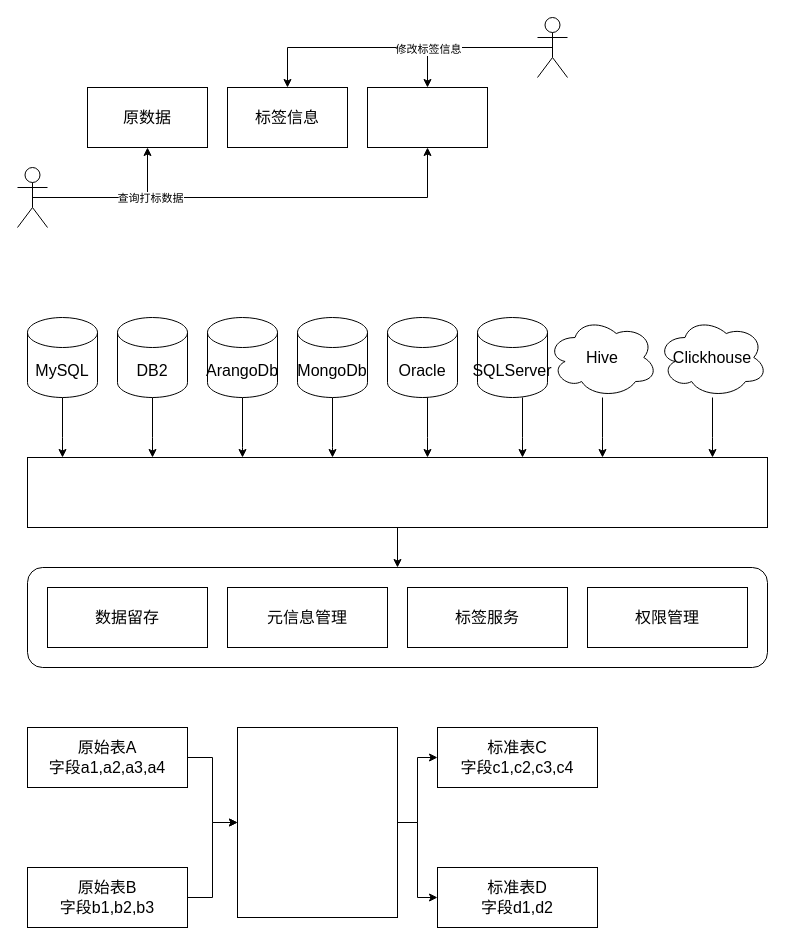
Image size: 785x945. Some labels were removed from this diagram. Each missing label, with the centre of its shape:
"a1->c1 a2->c2 a3,b1->c3 part(a4)->c4 part(a4)->d1 b2->d2 discard(b3)" goes at (317,822).
"打标数据" goes at (427,117).
"数据接口层" goes at (397,492).
